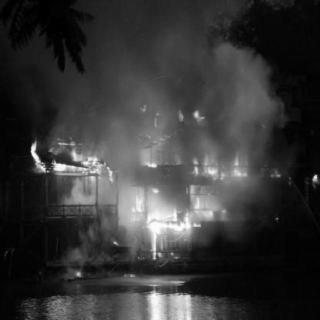Fire: (134, 144, 278, 250), (27, 134, 115, 181)
